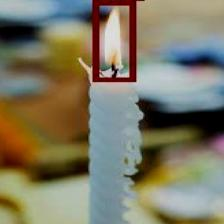fire: (91, 0, 134, 80)
